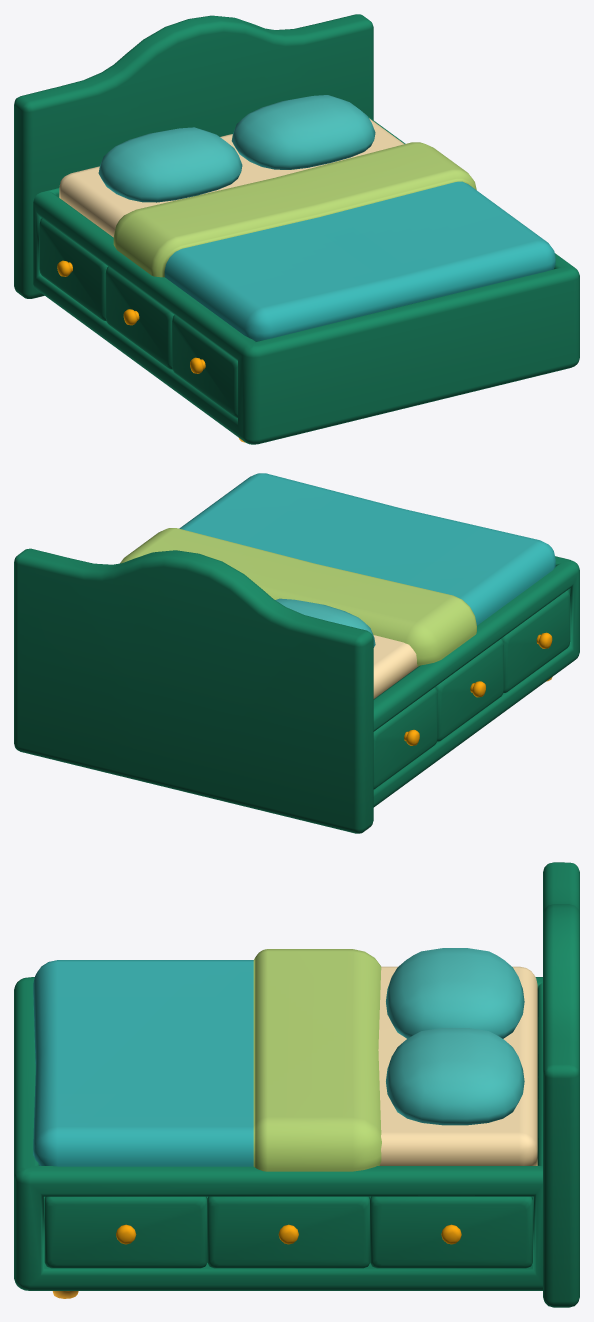
The model's file is Bed_02.fbx.
3 renders of one model, top to bottom at view 1: azimuth 30°, elevation 25°; view 2: azimuth 150°, elevation 25°; view 3: azimuth 270°, elevation 25°, orthographic. The views are drawn at different scales.
Parts seen in each view (by area): view 1: Bed_02; view 2: Bed_02; view 3: Bed_02.
Boxes of the visible parts, box(x1,y1,x2,y2) form: Bed_02: box(14, 14, 579, 444); Bed_02: box(14, 473, 579, 833); Bed_02: box(14, 862, 579, 1307).
Size of the model in its own units: 1.92 by 1.2 by 2.14.
